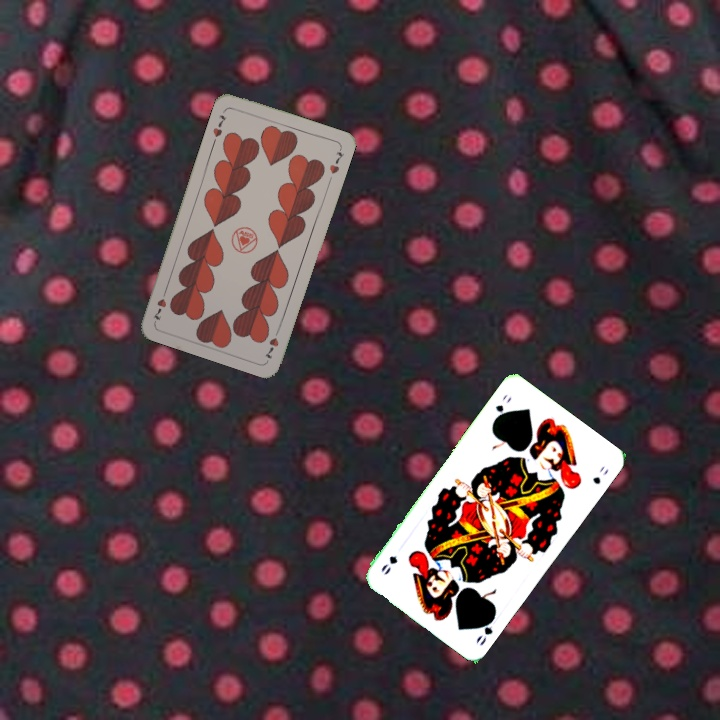GO: (472, 611, 498, 648), (489, 390, 514, 425)
H7: (260, 323, 283, 361), (209, 111, 229, 140)
